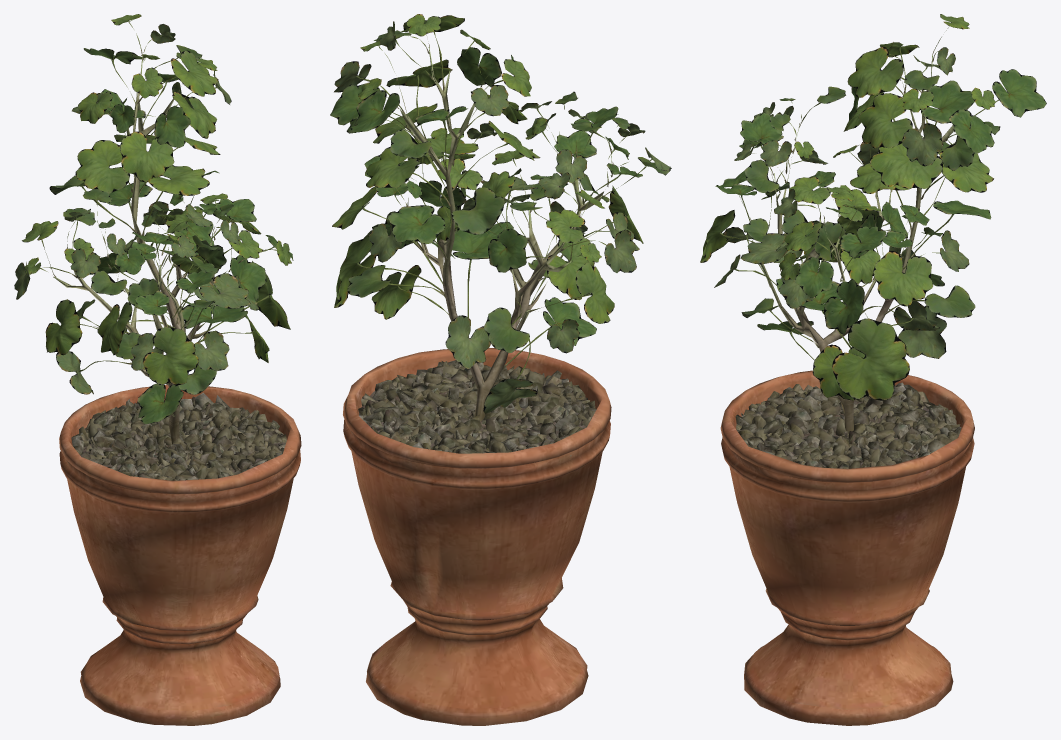
File: ph-potted_plant_01.glb
3 renders of one model, left to right at view 1: azimuth 30°, elevation 25°; view 2: azimuth 150°, elevation 25°; view 3: azimuth 270°, elevation 25°, orthographic. The views are drawn at different scales.
Parts seen in each view (by area): view 1: potted_plant_01_stem, potted_plant_01_leaves; view 2: potted_plant_01_stem, potted_plant_01_leaves; view 3: potted_plant_01_stem, potted_plant_01_leaves.
Part boxes in pixels (x1=…): potted_plant_01_stem: x1=54, y1=54, x2=301, y2=725; potted_plant_01_leaves: x1=14, y1=14, x2=293, y2=424; potted_plant_01_stem: x1=343, y1=47, x2=612, y2=725; potted_plant_01_leaves: x1=330, y1=14, x2=671, y2=413; potted_plant_01_stem: x1=720, y1=55, x2=974, y2=725; potted_plant_01_leaves: x1=700, y1=14, x2=1046, y2=400.
Bounding box in the file's own units: 0.4352 × 0.989 × 0.4694.
2 materials, 2 textured.
